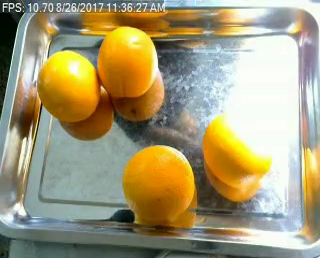Orange: (122, 144, 193, 220), (204, 115, 273, 187), (37, 50, 99, 121), (96, 26, 158, 95)
